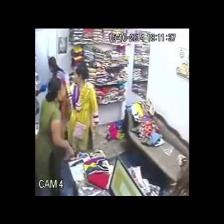person: (36, 79, 74, 195), (69, 63, 98, 151), (49, 57, 71, 133)
